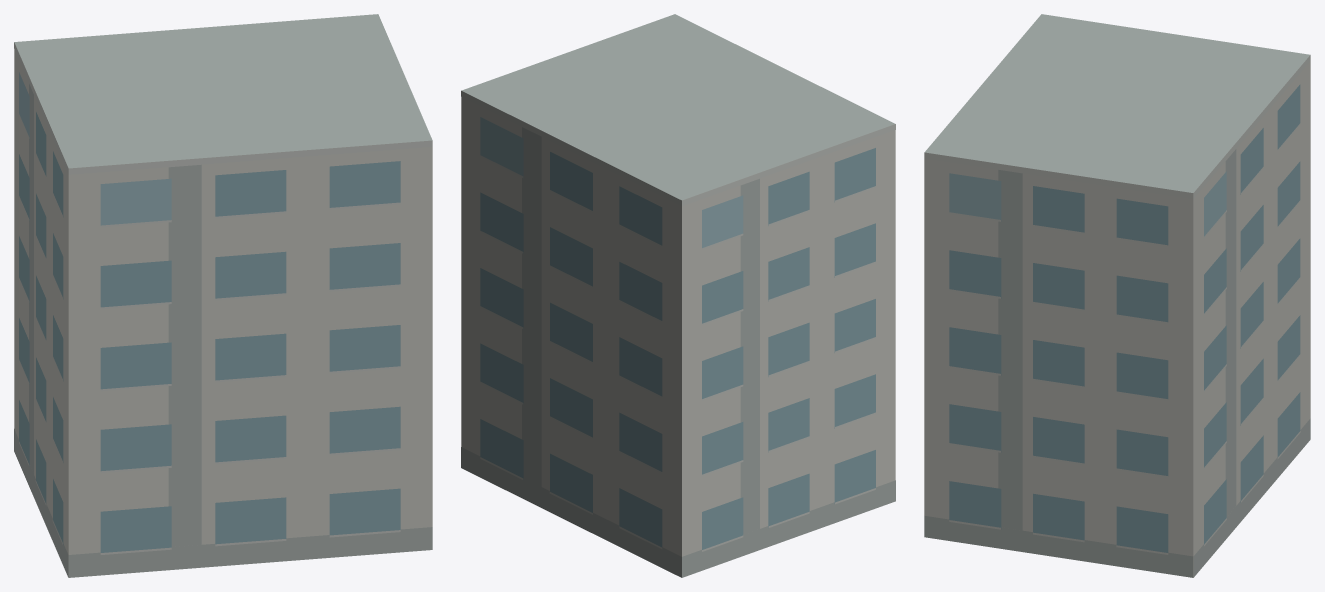
The model's file is residential-b3f9072e-d55d-4c06-b924-417143134c87.glb.
3 renders of one model, left to right at view 1: azimuth 30°, elevation 25°; view 2: azimuth 150°, elevation 25°; view 3: azimuth 270°, elevation 25°, orthographic. The views are drawn at different scales.
Visible parts, largest first — view 1: residential-b3f9072e-d55d-4c06-b924-417143134c87.tmp; view 2: residential-b3f9072e-d55d-4c06-b924-417143134c87.tmp; view 3: residential-b3f9072e-d55d-4c06-b924-417143134c87.tmp.
Part boxes in pixels (<box>): residential-b3f9072e-d55d-4c06-b924-417143134c87.tmp: <box>14,14,432,577</box>; residential-b3f9072e-d55d-4c06-b924-417143134c87.tmp: <box>461,14,895,577</box>; residential-b3f9072e-d55d-4c06-b924-417143134c87.tmp: <box>924,14,1310,577</box>.
Bounding box in the file's own units: 15.24 × 15.25 × 13.88.
